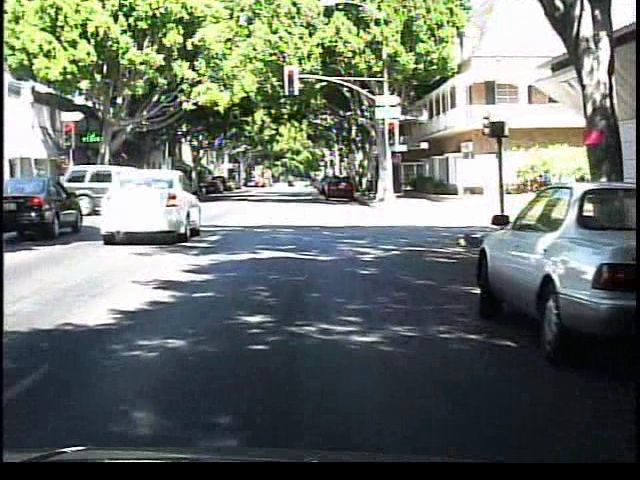person: (70, 164, 95, 209)
